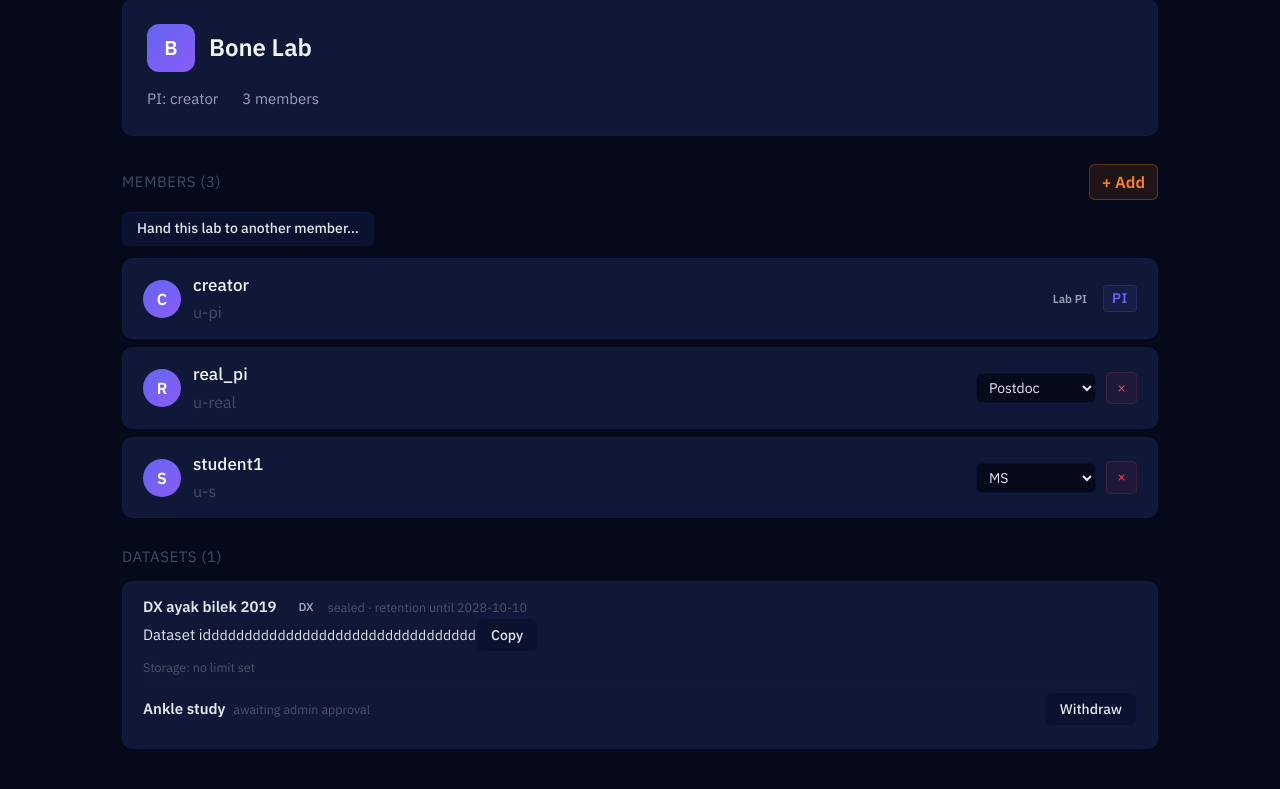
Test case: LabDetail — revoking a project's access to a dataset › an unapproved share is withdrawn, and says nobody has access through it yet
(page scrolled)
Click the button with aria-label "Withdraw Ankle study" at (1091, 709), box x1=1045 y1=692 x2=1137 y2=726
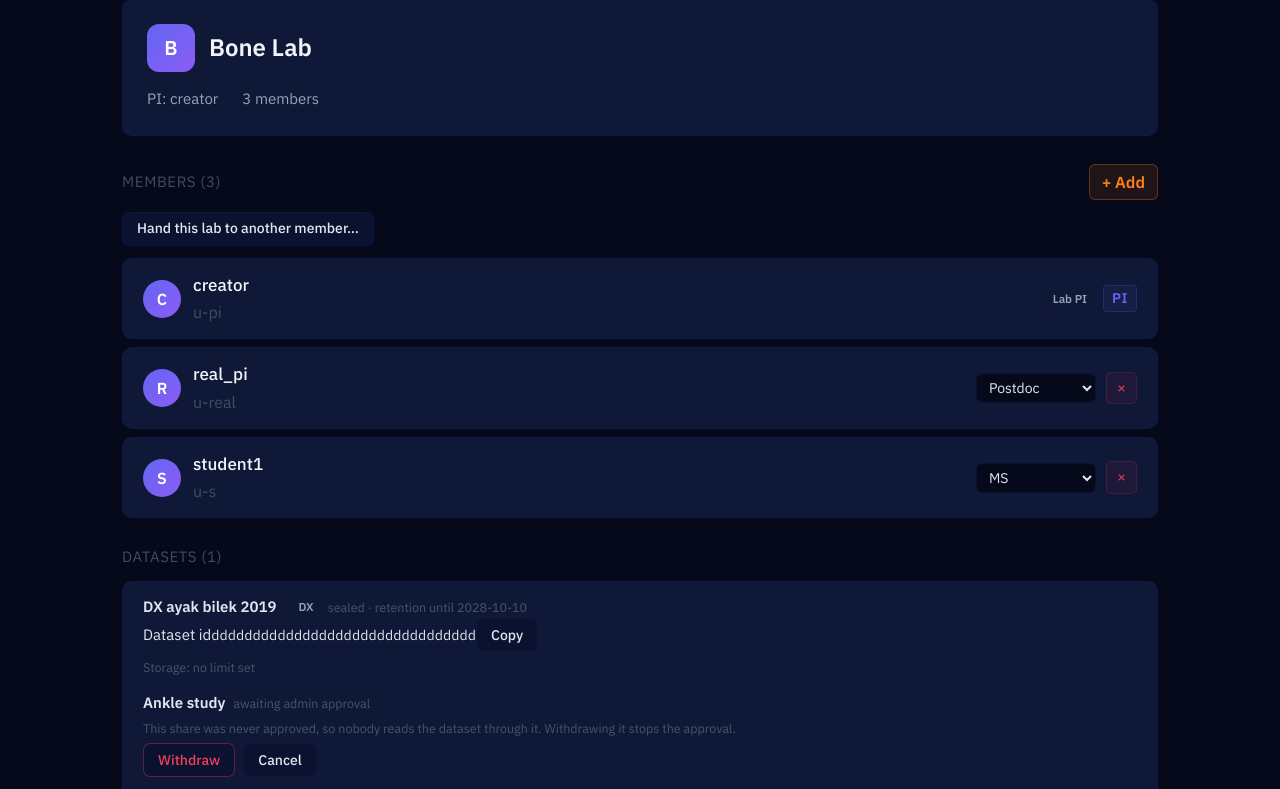
Result: the text "never approved, so nobody reads the dataset through it" is shown at x1=143 y1=720 x2=736 y2=736
